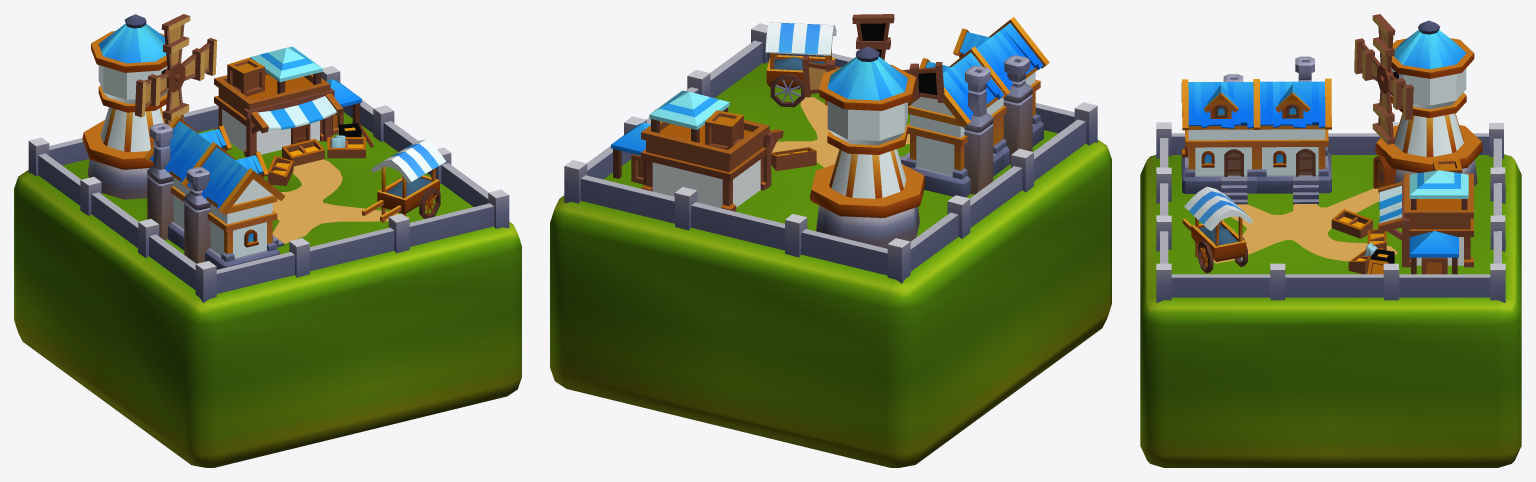
File: block_meta_base_lvl_2.fbx
The picture shows the model from 3 angles, left to right: view 1: azimuth 30°, elevation 25°; view 2: azimuth 150°, elevation 25°; view 3: azimuth 270°, elevation 25°; orthographic projection. The views are drawn at different scales.
Parts seen in each view (by area): view 1: block_village_2; view 2: block_village_2; view 3: block_village_2.
Part boxes in pixels (<box>): block_village_2: <box>14,14,521,467</box>; block_village_2: <box>550,14,1111,467</box>; block_village_2: <box>1140,14,1521,467</box>.
Size of the model in its own units: 400 by 397 by 400.
